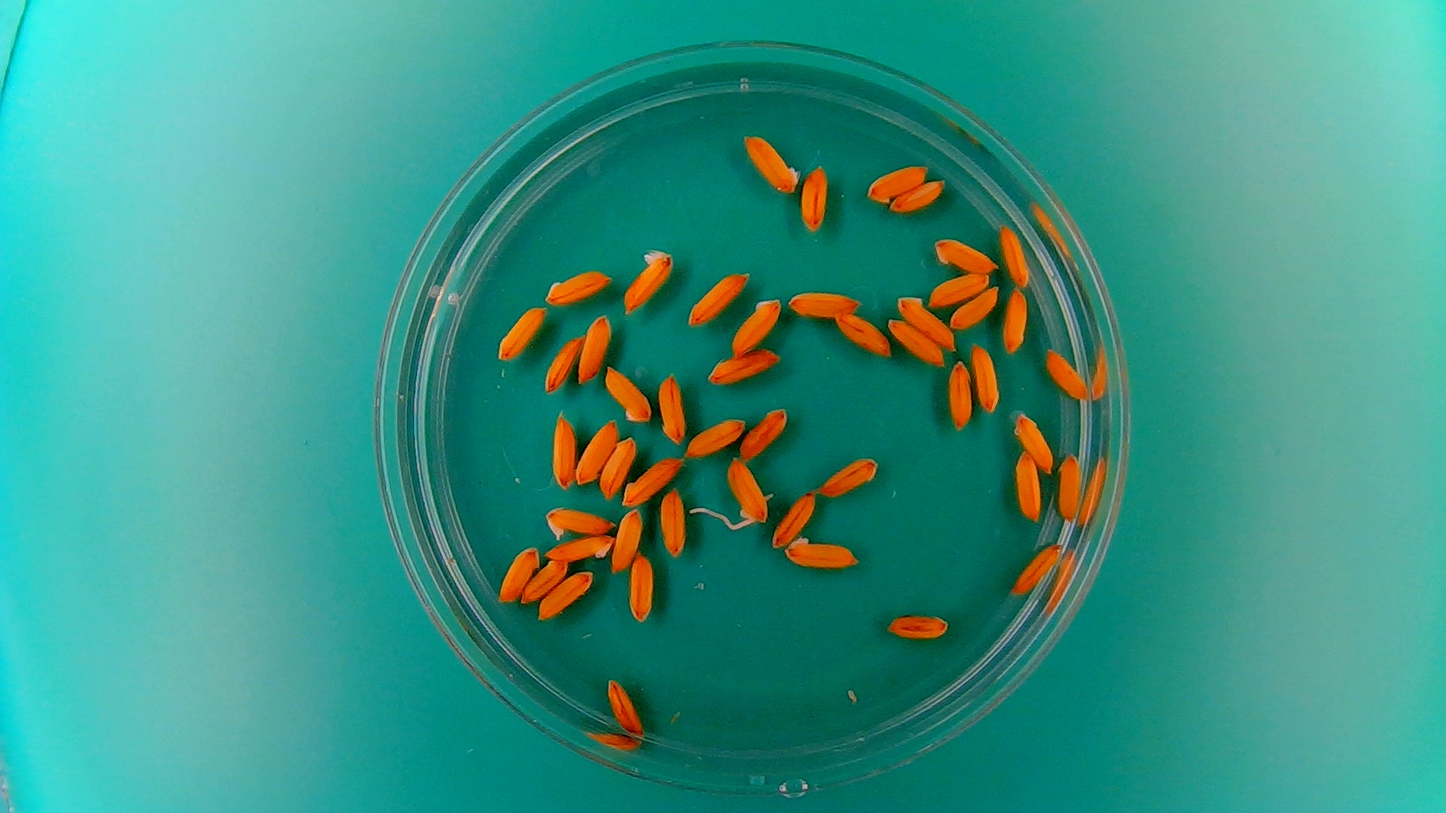no: (741, 130, 802, 194), (620, 245, 675, 315), (685, 269, 749, 327), (619, 453, 685, 507), (895, 293, 956, 350), (704, 344, 782, 387), (862, 158, 932, 205), (729, 295, 782, 357), (1009, 538, 1065, 596), (537, 567, 597, 621), (574, 416, 618, 487), (884, 315, 944, 367), (602, 362, 653, 423), (768, 486, 816, 550), (495, 303, 547, 361), (831, 309, 892, 358), (783, 534, 861, 572), (739, 403, 790, 461), (542, 266, 614, 307), (816, 453, 880, 498), (1011, 407, 1054, 473), (683, 413, 746, 458), (496, 542, 540, 605), (576, 311, 613, 385), (602, 674, 645, 737), (932, 235, 999, 275), (599, 434, 638, 501), (1043, 346, 1089, 402), (787, 285, 865, 318), (927, 270, 992, 309), (968, 340, 1002, 414), (541, 333, 582, 394), (655, 370, 687, 447), (518, 556, 569, 604), (609, 506, 645, 574), (948, 285, 1001, 330), (548, 409, 577, 491), (883, 608, 951, 642), (997, 224, 1032, 289), (658, 484, 688, 559), (1014, 446, 1043, 523), (543, 532, 615, 563), (798, 163, 829, 233), (627, 549, 656, 623), (947, 355, 974, 431), (890, 177, 947, 213), (1056, 449, 1084, 522), (1002, 285, 1030, 355)
yes: (722, 455, 773, 532), (540, 504, 618, 540)
